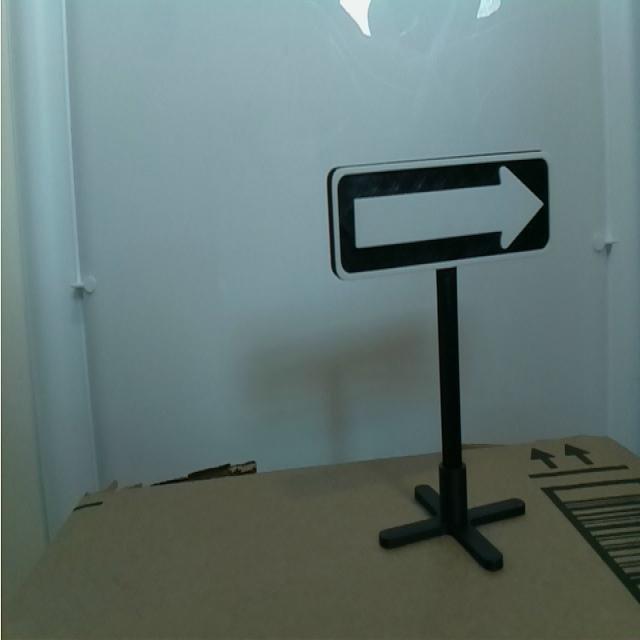sign_oneway_right: (314, 132, 562, 301)
